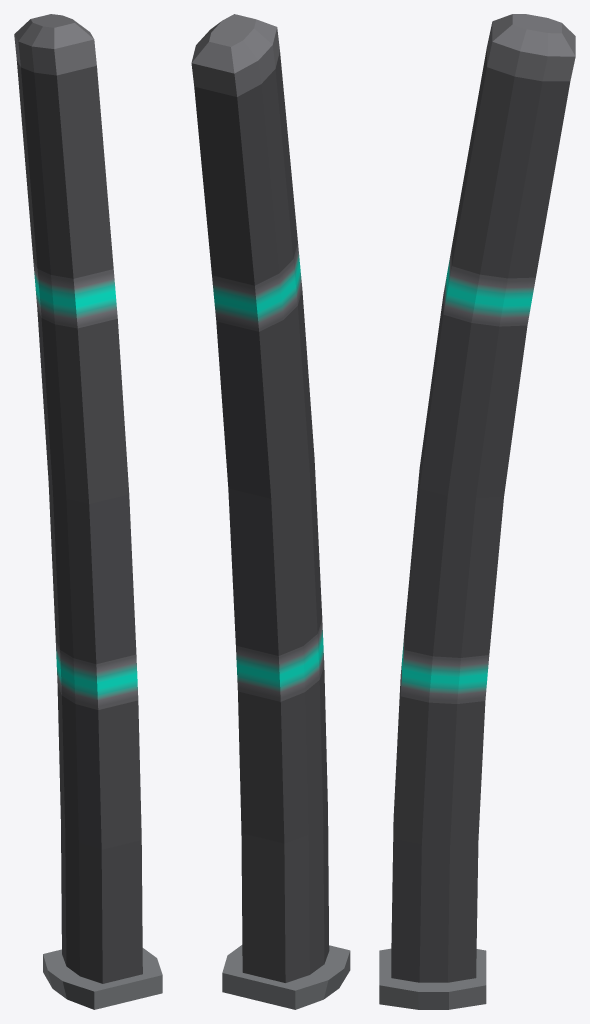
File: SM_Wep_Sword_01_Sheath_01.fbx
3 views of the same model, side by side, from view 1: azimuth 30°, elevation 25°; view 2: azimuth 150°, elevation 25°; view 3: azimuth 270°, elevation 25° (orthographic). The views are drawn at different scales.
Visible parts, largest first — view 1: SM_Wep_Sword_01_Sheath_01; view 2: SM_Wep_Sword_01_Sheath_01; view 3: SM_Wep_Sword_01_Sheath_01.
Part boxes in pixels (box(x1,y1,x2,y2)): SM_Wep_Sword_01_Sheath_01: box(14, 14, 162, 1009); SM_Wep_Sword_01_Sheath_01: box(191, 14, 350, 1009); SM_Wep_Sword_01_Sheath_01: box(379, 14, 575, 1009).
Bounding box in the file's own units: 10.77 × 101 × 18.62.
